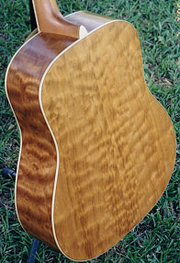guitar: (5, 1, 176, 261)
